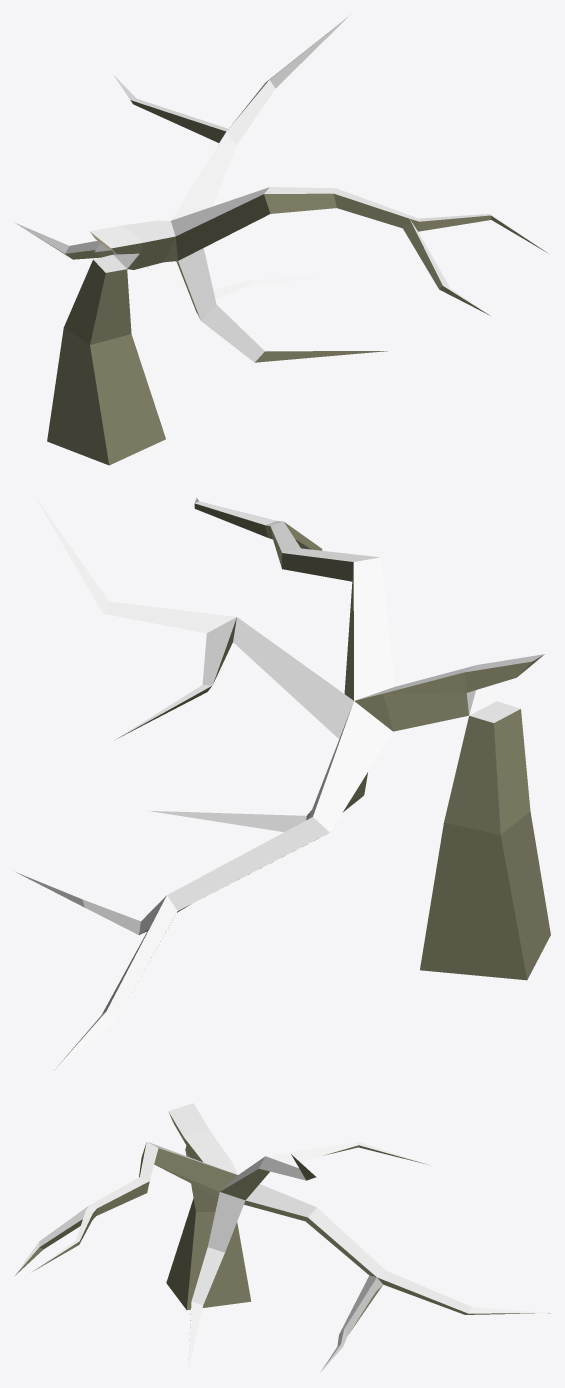
The model's file is Dead_Tree_crk_m_Snow_01.fbx.
3 views of the same model, one above another, from view 1: azimuth 30°, elevation 25°; view 2: azimuth 150°, elevation 25°; view 3: azimuth 270°, elevation 25° (orthographic). The views are drawn at different scales.
Visible parts, largest first — view 1: Dead_Tree_crk_m_Snow_01; view 2: Dead_Tree_crk_m_Snow_01; view 3: Dead_Tree_crk_m_Snow_01.
Part boxes in pixels (x1,y1,x2,y2): Dead_Tree_crk_m_Snow_01: [15, 14, 547, 465]; Dead_Tree_crk_m_Snow_01: [14, 497, 550, 1073]; Dead_Tree_crk_m_Snow_01: [15, 1103, 549, 1372].
Size of the model in its own units: 579 by 462 by 884.
